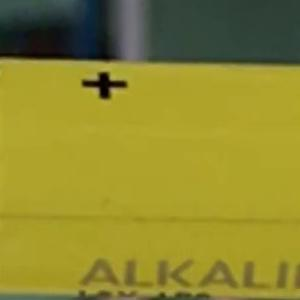ALK: (72, 252, 195, 295)
